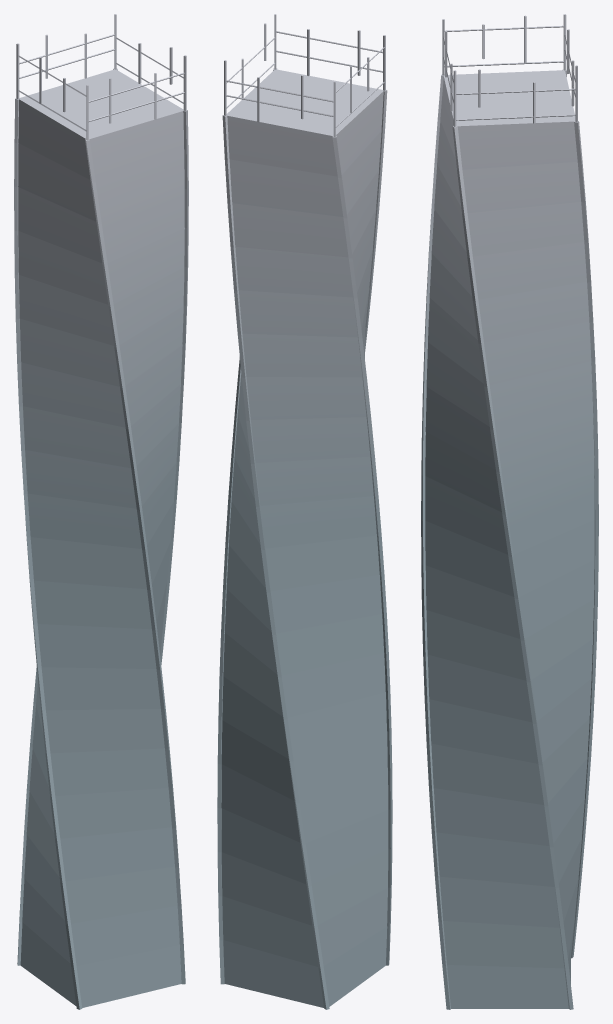
File: cayanTower.FBX
The picture shows the model from 3 angles, left to right: view 1: azimuth 30°, elevation 25°; view 2: azimuth 150°, elevation 25°; view 3: azimuth 270°, elevation 25°; orthographic projection.
Visible parts, largest first — view 1: cayanTower; view 2: cayanTower; view 3: cayanTower.
Boxes of the visible parts, left/top/right/bottom form: cayanTower: left=14, top=14, right=188, bottom=1009; cayanTower: left=217, top=14, right=392, bottom=1009; cayanTower: left=421, top=14, right=598, bottom=1009.
Size of the model in its own units: 0.6622 by 3.86 by 0.6623.
